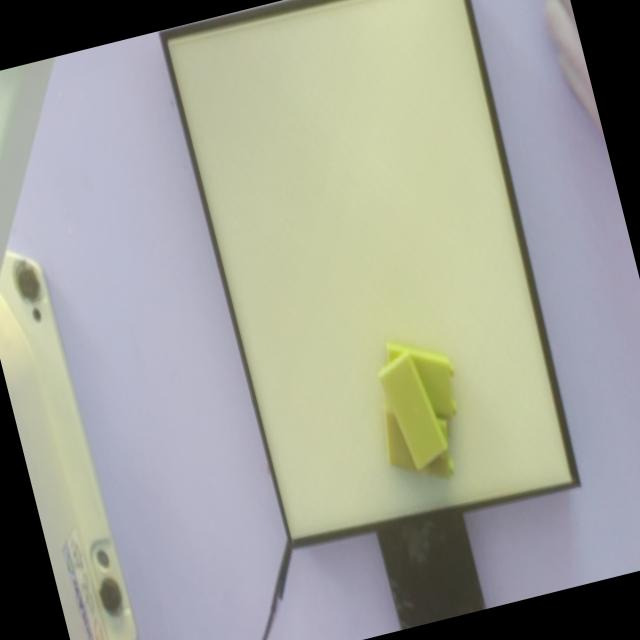bateria: (376, 349, 449, 475)
mesa: (159, 0, 581, 550)
